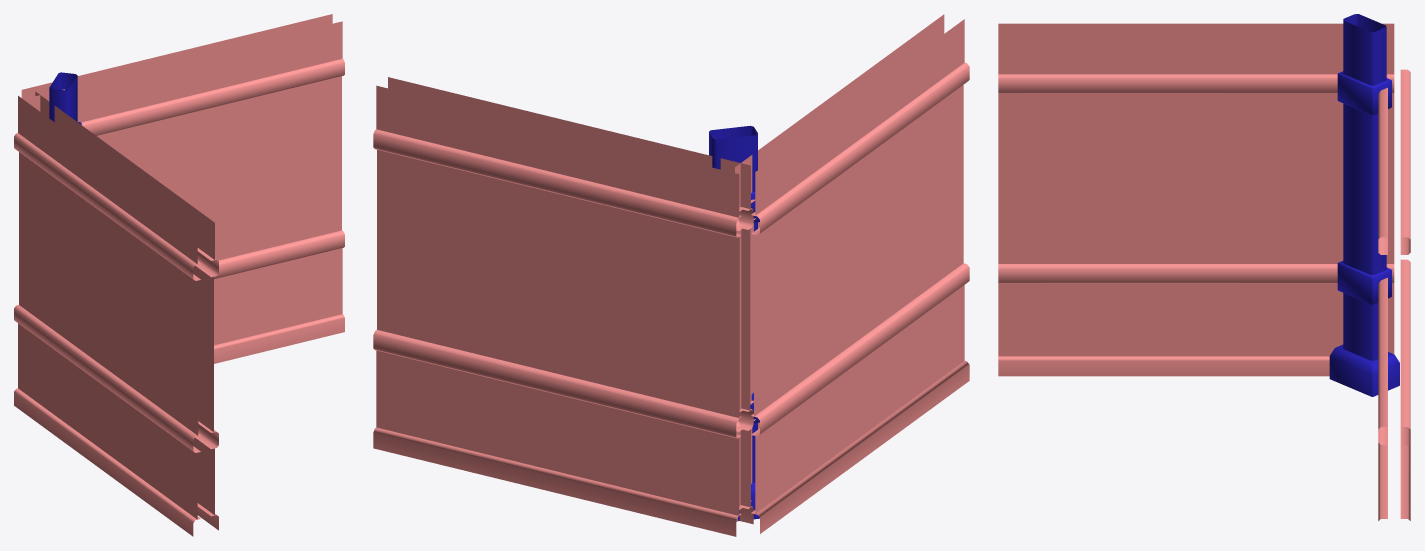
File: Prefab_08.FBX
3 renders of one model, left to right at view 1: azimuth 30°, elevation 25°; view 2: azimuth 150°, elevation 25°; view 3: azimuth 270°, elevation 25°, orthographic. The views are drawn at different scales.
Parts seen in each view (by area): view 1: Object006, Object004, Box003; view 2: Object004, Object006, Box003; view 3: Object006, Box003, Object004.
Boxes of the visible parts, x1,y1,x2,y2 form: Object006: (14, 91, 218, 536); Object004: (21, 14, 344, 363); Box003: (49, 72, 81, 124); Object004: (373, 77, 753, 536); Object006: (735, 14, 969, 533); Box003: (709, 125, 759, 520); Object006: (998, 23, 1394, 376); Box003: (1329, 14, 1399, 396); Object004: (1378, 69, 1410, 520).
Size of the model in its own units: 416 by 400 by 416.
